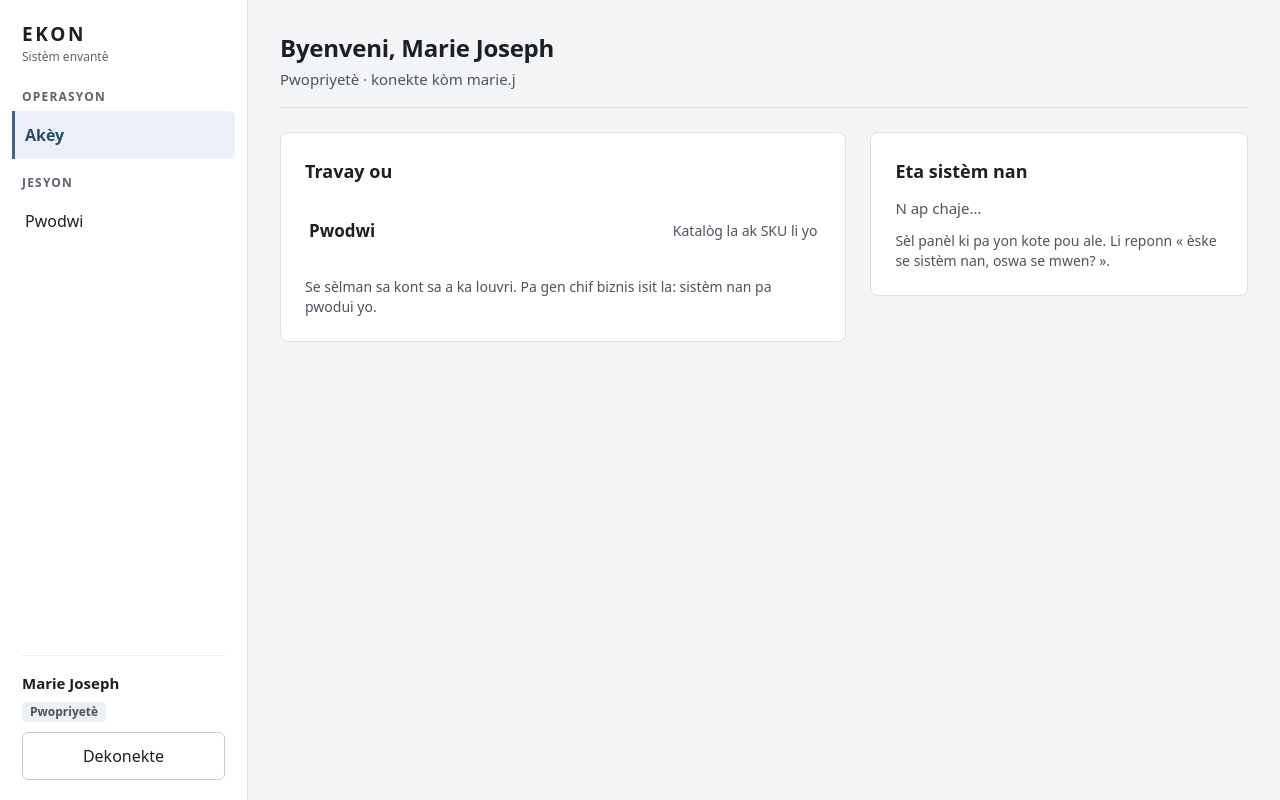
Scenario: what the change means › says discontinued merchandise still sells and is still counted
Expected: the text "Marie Joseph" is shown, x1=22 y1=672 x2=119 y2=692
Click the button "Pwodwi": (124, 220) x1=12 y1=196 x2=235 y2=244
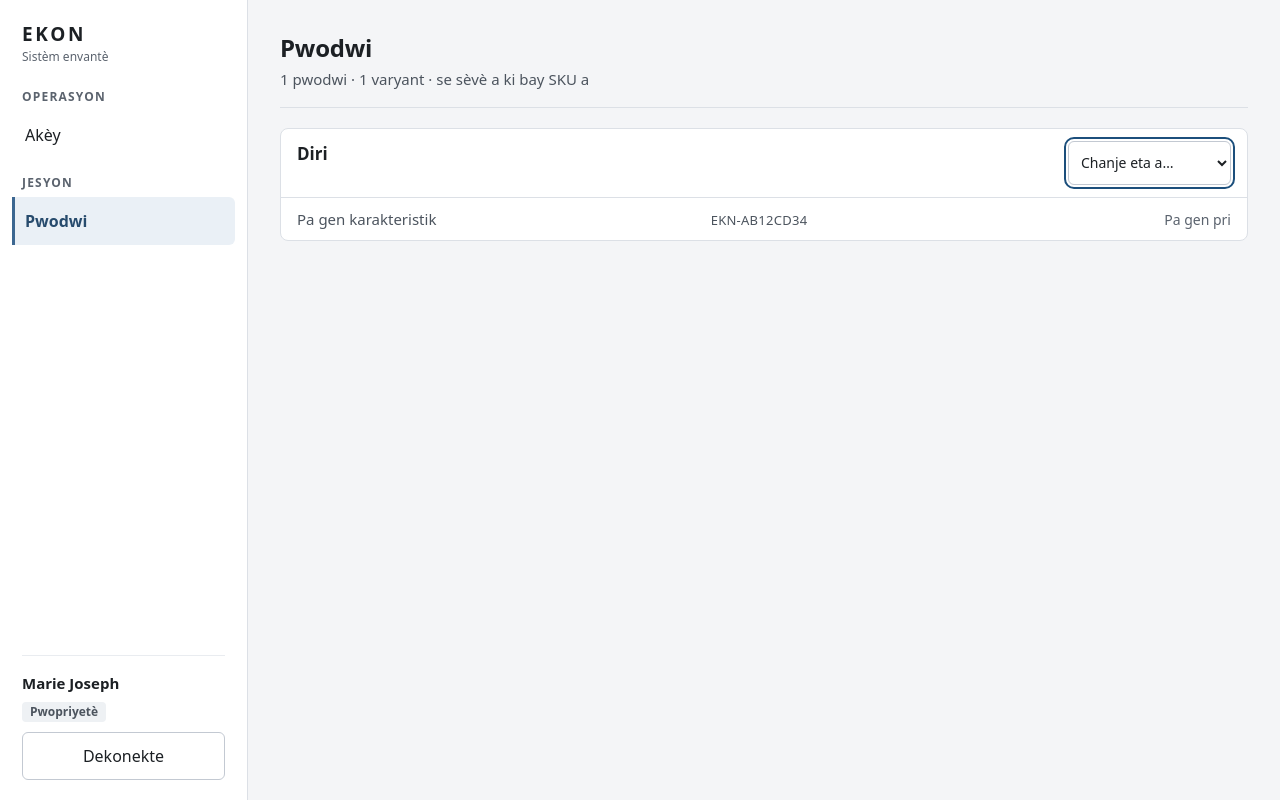
Now the heading "Pwodwi" is shown, box x1=280 y1=31 x2=372 y2=64
Select "Sispann kòmande l" in the dropdown: (1150, 162) x1=1068 y1=140 x2=1231 y2=184
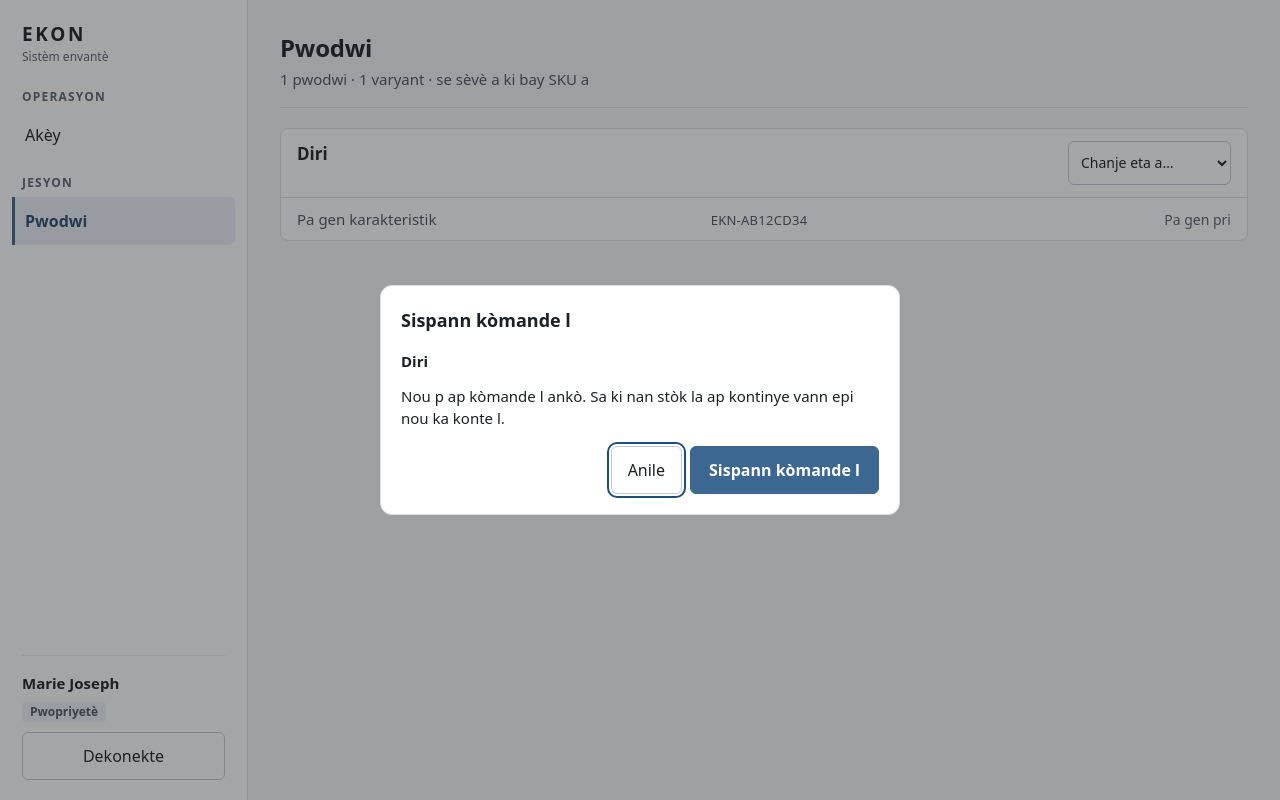
Now the dialog is shown, box x1=380 y1=285 x2=900 y2=515
Now the text "Nou p ap kòmande l ankò. Sa ki nan stòk la ap kontinye vann epi nou ka konte l." is shown, box x1=401 y1=385 x2=879 y2=430
